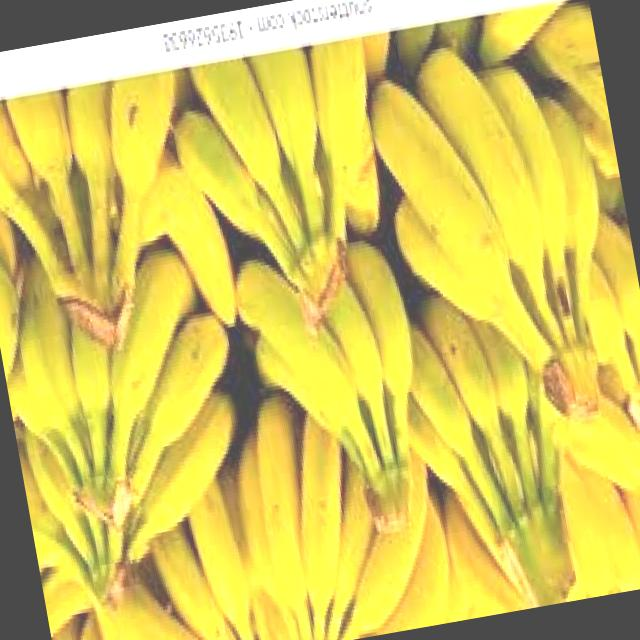Banana: (360, 29, 635, 442), (0, 242, 266, 617), (387, 283, 600, 622), (229, 230, 448, 556), (166, 34, 402, 334), (0, 68, 209, 365), (225, 377, 448, 640)
